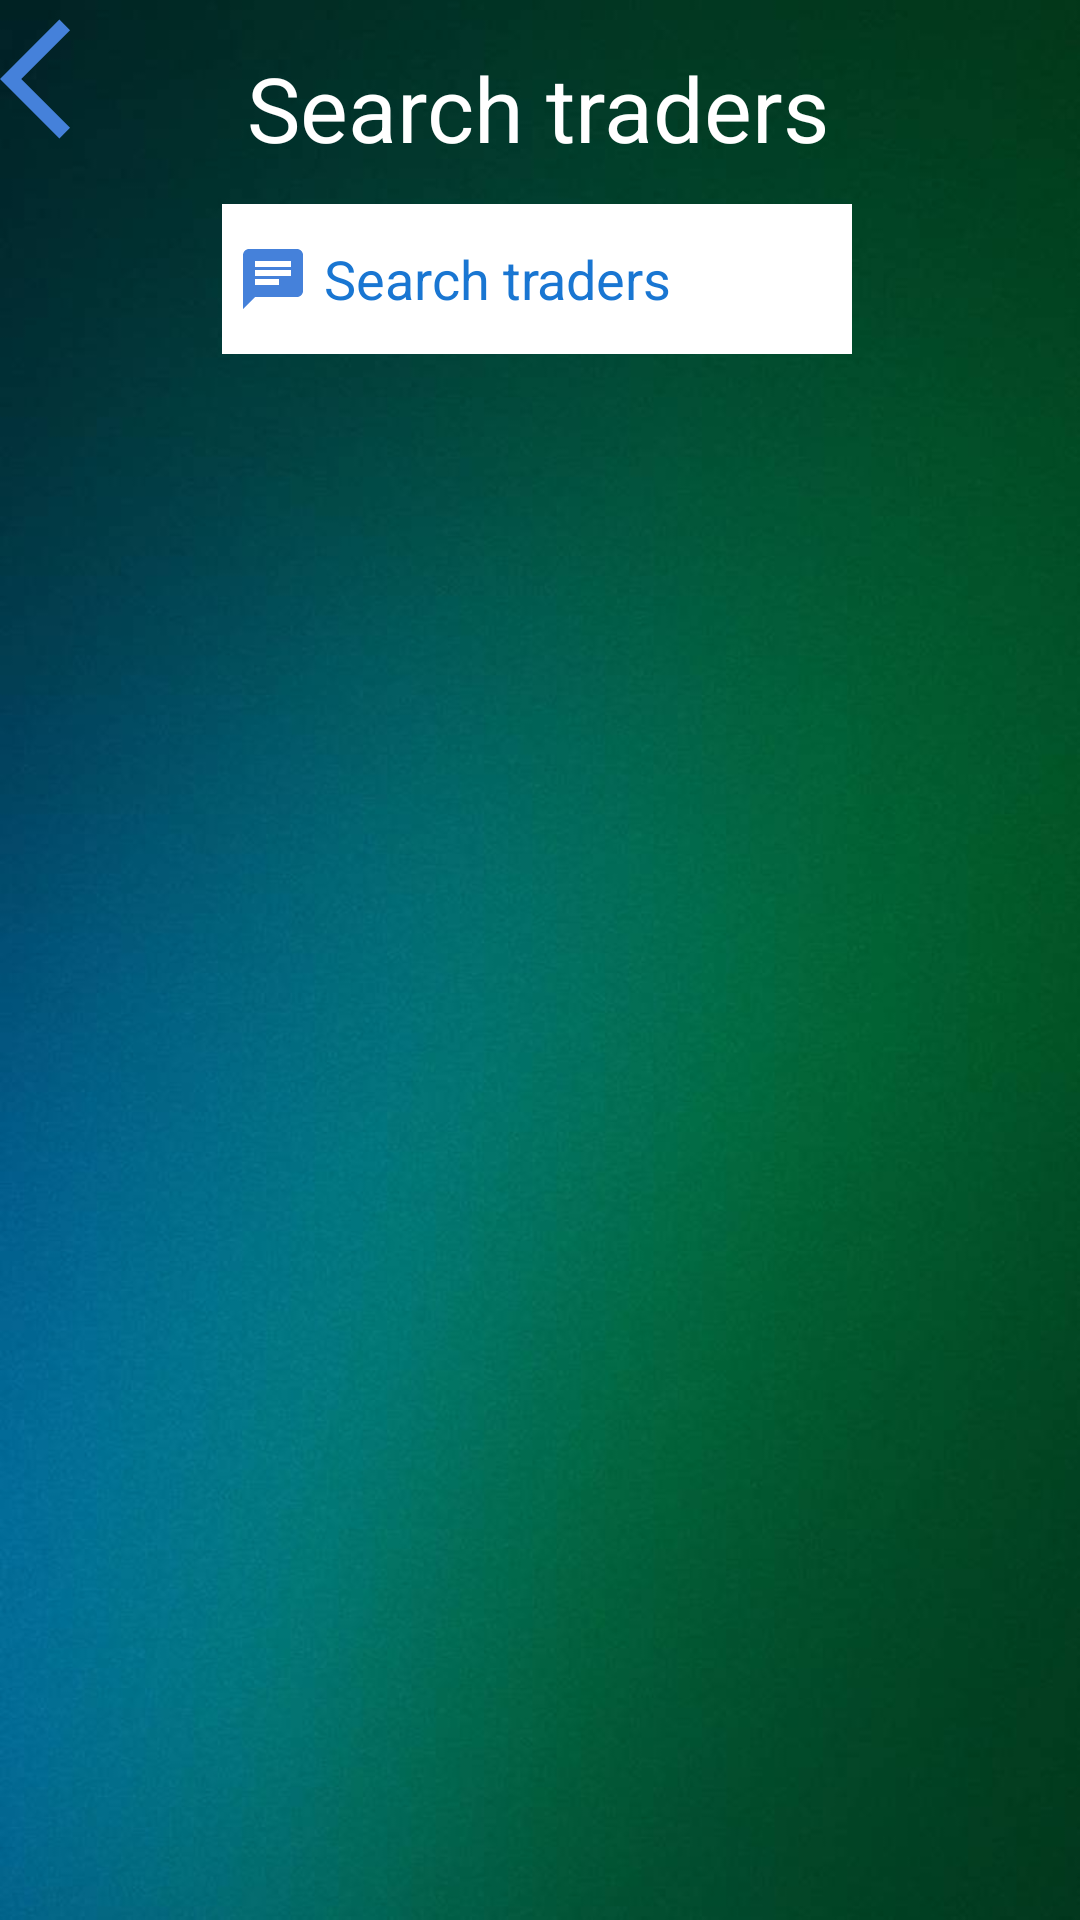

Where to tap for icons on this 1080*1920 app screen, as [x,y]:
Back button: [35,79]
